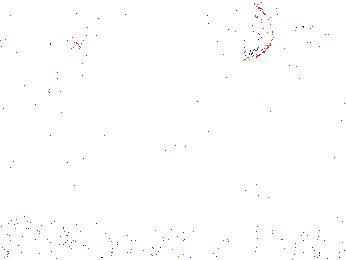moon jellyfish: (182, 1, 274, 61), (261, 9, 323, 69), (290, 31, 344, 92), (36, 36, 87, 96), (28, 1, 116, 28), (1, 38, 39, 96)
